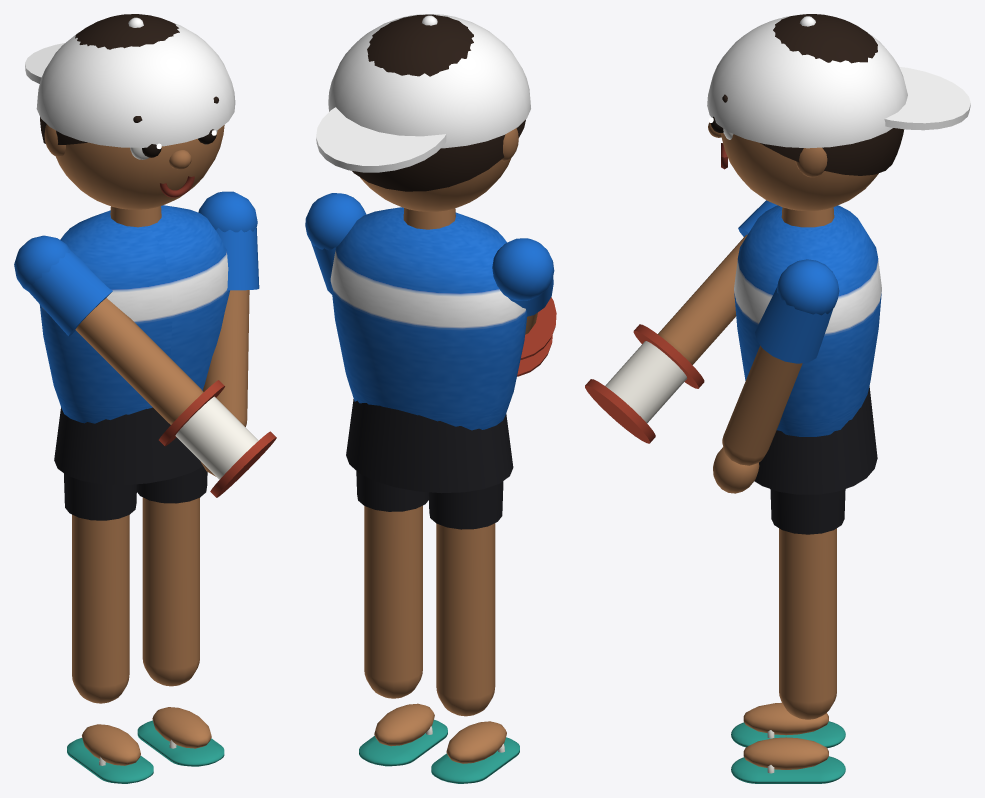
Rendered from bone-pra-tras.glb.
The picture shows the model from 3 angles, left to right: view 1: azimuth 30°, elevation 25°; view 2: azimuth 150°, elevation 25°; view 3: azimuth 270°, elevation 25°; orthographic projection. The views are drawn at different scales.
Visible parts, largest first — view 1: bone-pra-tras; view 2: bone-pra-tras; view 3: bone-pra-tras.
Boxes of the visible parts, x1,y1,x2,y2 form: bone-pra-tras: (14, 14, 276, 783); bone-pra-tras: (305, 14, 556, 783); bone-pra-tras: (585, 14, 970, 783).
Size of the model in its own units: 0.6326 by 1.88 by 0.8873.
Materials: 15 (1 with a texture image).
